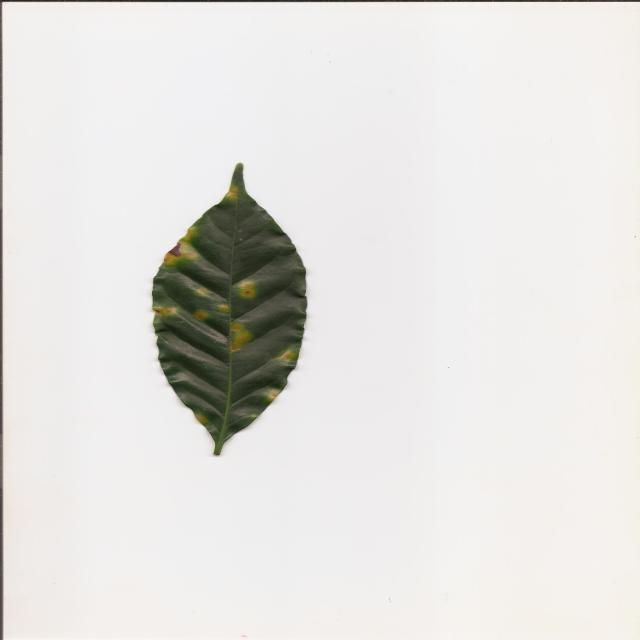Enfermedad-Roya: (149, 165, 307, 458)
